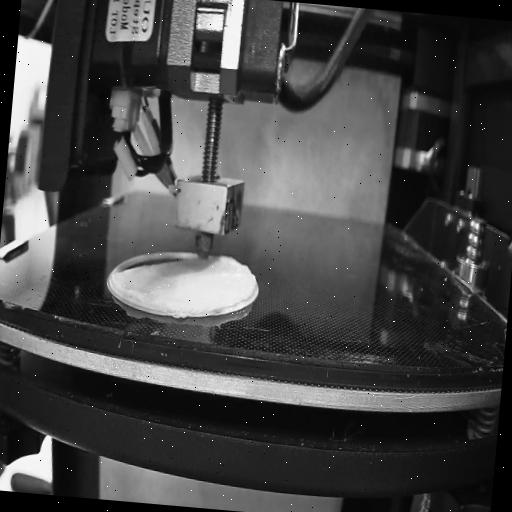over_extrusion: (223, 252, 262, 306)
